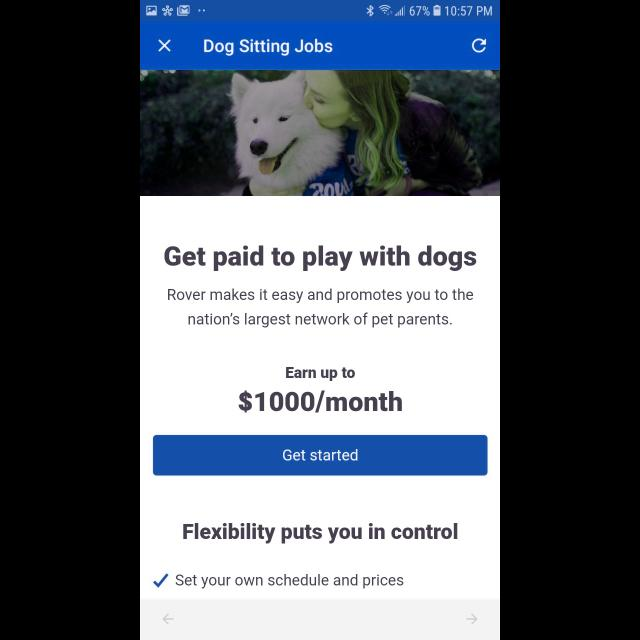icon: (154, 574, 170, 588), (472, 38, 486, 54), (159, 40, 171, 52), (163, 614, 174, 624), (467, 614, 478, 624)
image: (140, 71, 500, 197)
text: (168, 288, 474, 328), (165, 245, 477, 271), (184, 524, 458, 544), (238, 391, 402, 413), (176, 574, 404, 588), (204, 39, 332, 57), (286, 366, 356, 382)
textbutton: (154, 436, 488, 476)
uppertaskbar: (140, 1, 500, 22)
